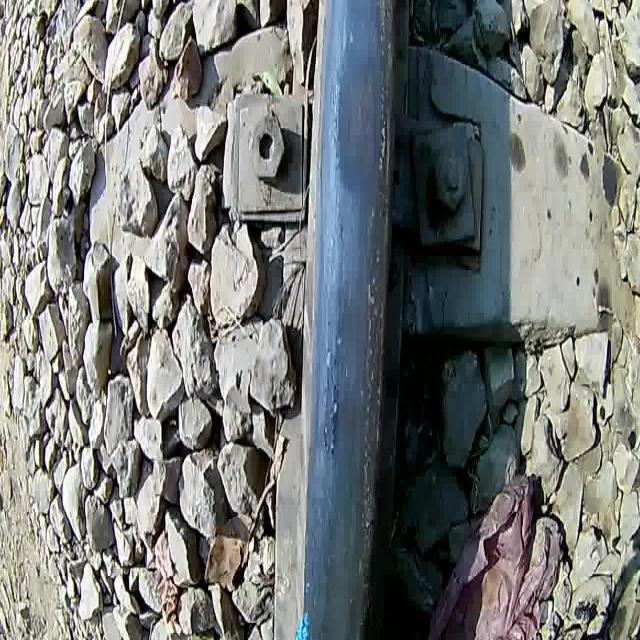Squats: (278, 0, 421, 640)
